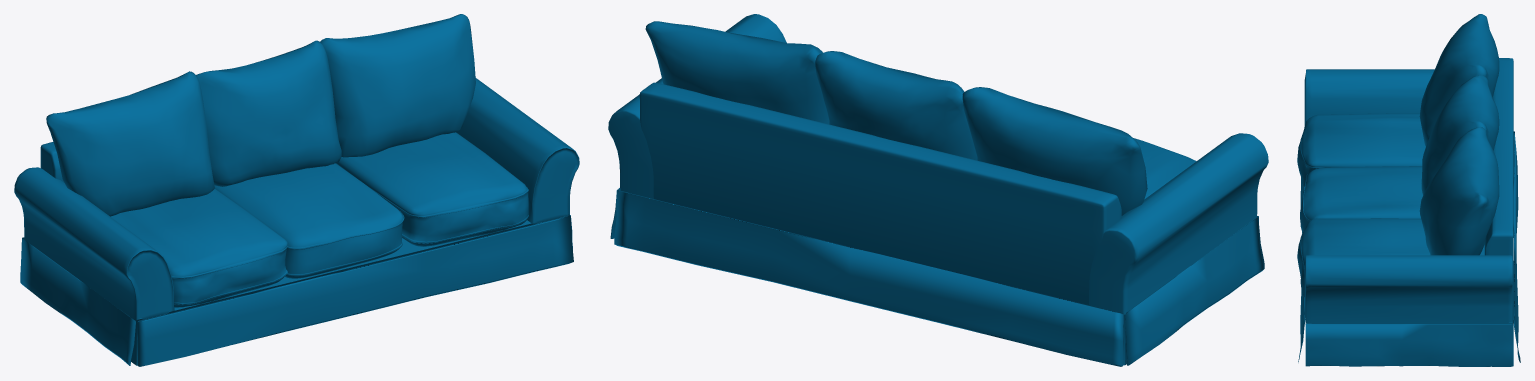
Rendered from MDL_Sofa_00.fbx.
3 renders of one model, left to right at view 1: azimuth 30°, elevation 25°; view 2: azimuth 150°, elevation 25°; view 3: azimuth 270°, elevation 25°, orthographic. The views are drawn at different scales.
Visible parts, largest first — view 1: adorno3, cojin, cojin1, cojincentral, sillin2, sillin1, brazo_01, sillin, brazo_00, adorno1, Base, espaldar; view 2: espaldar, adorno, brazo_01, cojin, cojin1, cojincentral, adorno1, brazo_00, sillin; view 3: brazo_00, adorno2, cojin1, sillin, sillin1, brazo_01, sillin2, cojin, cojincentral, espaldar, adorno, adorno3.
Boxes of the visible parts, x1,y1,x2,y2 form: adorno3: (137, 216, 573, 366); cojin: (46, 71, 214, 216); cojin1: (320, 14, 475, 157); cojincentral: (196, 40, 341, 186); sillin2: (336, 132, 528, 246); sillin1: (214, 163, 404, 278); brazo_01: (14, 167, 174, 320); sillin: (110, 189, 287, 307); brazo_00: (456, 78, 579, 224); adorno1: (20, 238, 135, 365); Base: (131, 214, 569, 365); espaldar: (40, 142, 64, 182); espaldar: (639, 82, 1121, 304); adorno: (614, 190, 1123, 366); brazo_01: (1089, 133, 1268, 314); cojin: (962, 87, 1147, 215); cojin1: (645, 21, 829, 124); cojincentral: (815, 51, 977, 160); adorno1: (1125, 217, 1264, 365); brazo_00: (608, 14, 786, 198); sillin: (1134, 138, 1196, 199); brazo_00: (1304, 255, 1513, 324); adorno2: (1305, 323, 1513, 366); cojin1: (1419, 127, 1499, 255); sillin: (1297, 113, 1425, 186); sillin1: (1300, 166, 1422, 232); brazo_01: (1304, 69, 1434, 125); sillin2: (1297, 218, 1430, 296); cojin: (1419, 14, 1499, 146); cojincentral: (1421, 75, 1499, 195); espaldar: (1484, 58, 1513, 257); adorno: (1513, 131, 1520, 362); adorno3: (1298, 177, 1305, 362).
Bounding box in the file's own units: 228 × 91.21 × 107.
